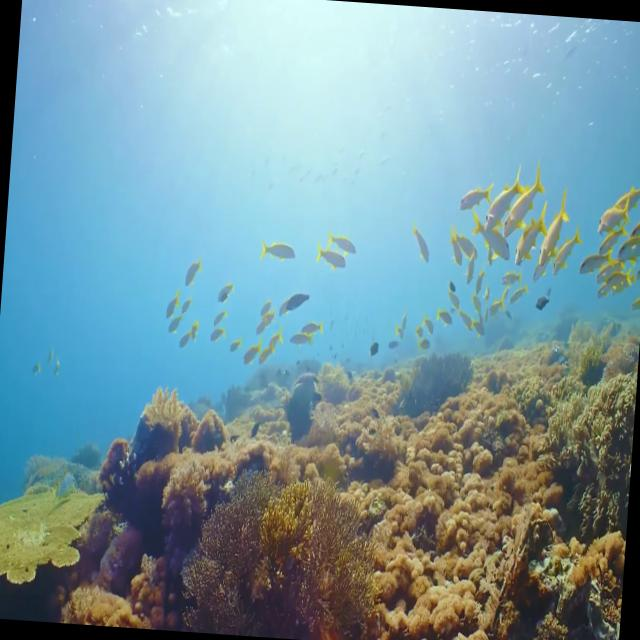fish: (536, 194, 575, 288), (502, 170, 552, 234), (486, 173, 525, 237), (273, 284, 313, 326), (258, 237, 301, 268), (454, 182, 486, 215), (328, 224, 362, 253)
